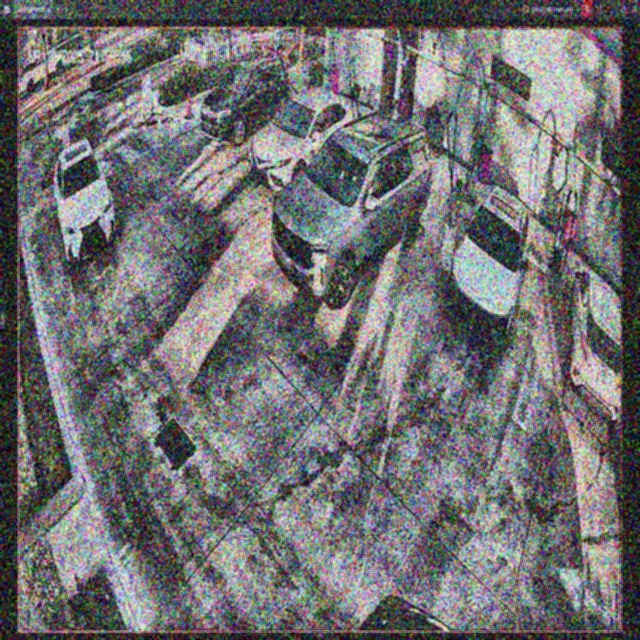Car: (272, 112, 432, 305), (448, 185, 531, 347), (250, 90, 360, 189), (202, 58, 288, 143)
